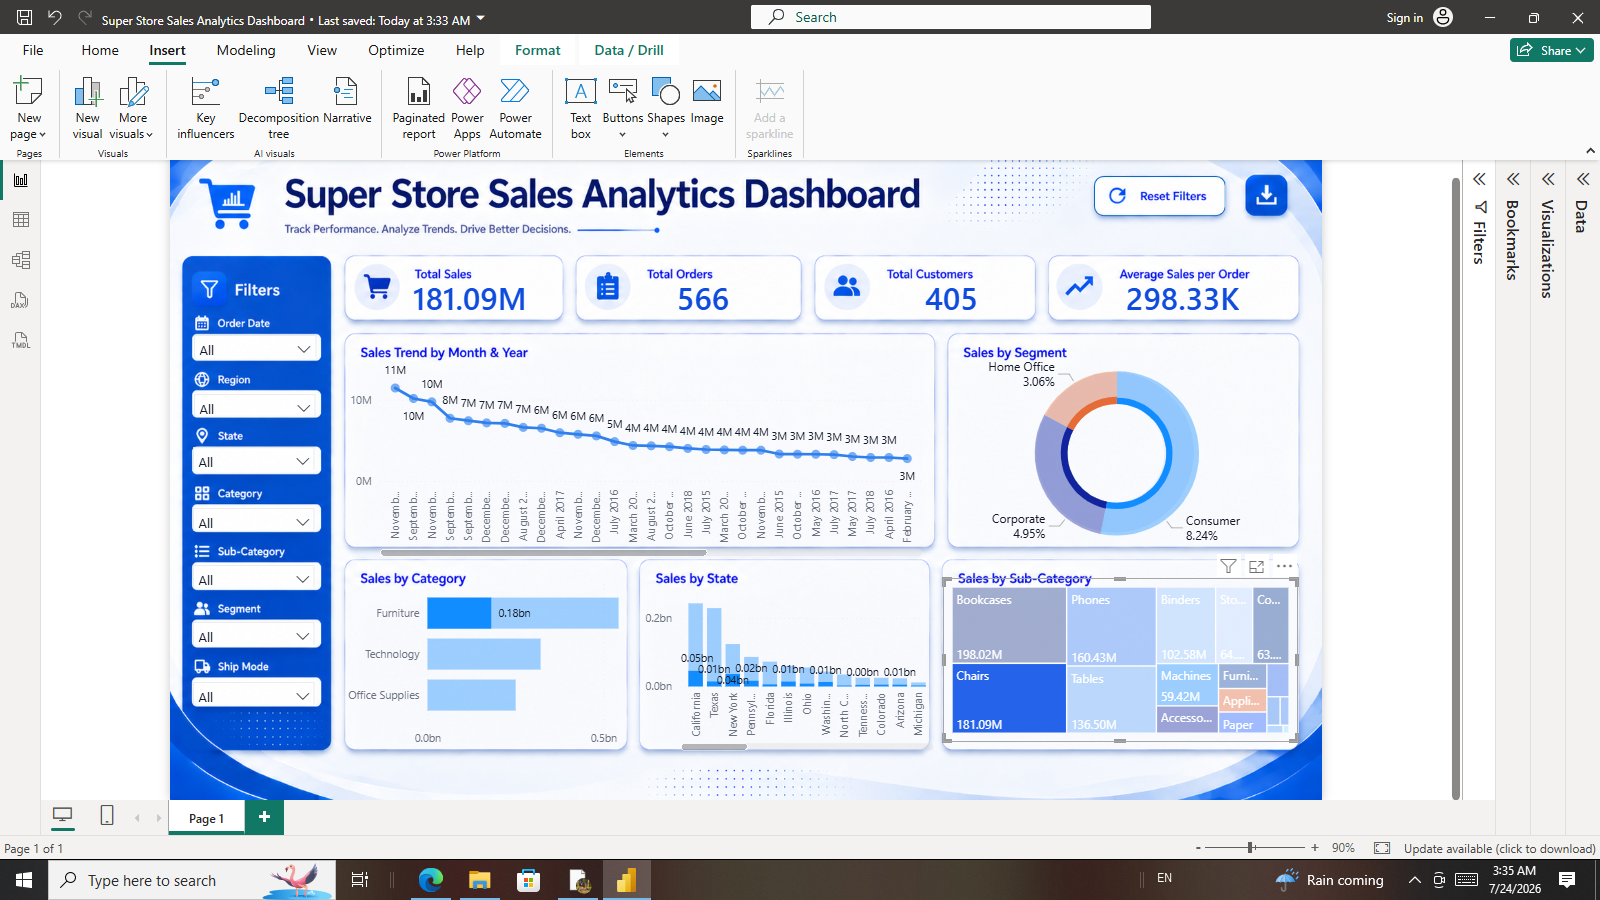

This screenshot's page, from the dashboard's own definition file:
{"tool":"powerbi","page":{"name":"Page 1","canvas":[1280,720],"ordinal":0},"visuals":[{"type":"cardVisual","fields":{"Data":["Superstore_Sales_Dataset.Total Sales"]},"box":[241.6,119.5,199.2,79.7],"z":0},{"type":"cardVisual","fields":{"Data":["Superstore_Sales_Dataset.Total Orders"]},"box":[534.6,119.5,164.5,79.7],"z":1000},{"type":"cardVisual","fields":{"Data":["Superstore_Sales_Dataset.Total Customers"]},"box":[809.6,119.5,164.5,79.7],"z":2000},{"type":"cardVisual","fields":{"Data":["Superstore_Sales_Dataset.Average Sales"]},"box":[1033.3,119.5,194.1,79.7],"z":3000},{"type":"lineChart","fields":{"Category":["Superstore_Sales_Dataset.Month & Year Order"],"Y":["Sum(Superstore_Sales_Dataset.Sales)"]},"box":[190.2,210.8,655.4,248],"z":4000},{"type":"donutChart","fields":{"Y":["Sum(Superstore_Sales_Dataset.Sales)"],"Category":["Superstore_Sales_Dataset.Segment"]},"box":[876.5,196.6,350.8,276.3],"z":5000},{"type":"clusteredBarChart","fields":{"Category":["Superstore_Sales_Dataset.Category"],"Y":["Sum(Superstore_Sales_Dataset.Sales)"]},"box":[181.2,458.8,383,215.9],"z":6000},{"type":"clusteredColumnChart","fields":{"Category":["Superstore_Sales_Dataset.State"],"Y":["Sum(Superstore_Sales_Dataset.Sales)"]},"box":[517.9,458.8,340.6,215.9],"z":7000},{"type":"treemap","fields":{"Group":["Superstore_Sales_Dataset.Sub-Category"],"Values":["Sum(Superstore_Sales_Dataset.Sales)"]},"box":[858.5,472.9,394.5,182.5],"z":8000},{"type":"slicer","fields":{"Values":["Superstore_Sales_Dataset.Order Date"]},"box":[16.1,192.8,155.6,35],"z":9000},{"type":"slicer","fields":{"Values":["Superstore_Sales_Dataset.Region"]},"box":[16.2,259.2,155.4,34.6],"z":10000},{"type":"slicer","fields":{"Values":["Superstore_Sales_Dataset.State"]},"box":[16,317.3,155.3,34.7],"z":11000},{"type":"slicer","fields":{"Values":["Superstore_Sales_Dataset.Category"]},"box":[16,385.3,155.3,34.7],"z":12000},{"type":"slicer","fields":{"Values":["Superstore_Sales_Dataset.Sub-Category"]},"box":[16,448.7,155.3,34.7],"z":13000},{"type":"slicer","fields":{"Values":["Superstore_Sales_Dataset.Segment"]},"box":[16,512,155.3,34.7],"z":14000},{"type":"slicer","fields":{"Values":["Superstore_Sales_Dataset.Ship Mode"]},"box":[16,578.7,155.3,34.7],"z":15000},{"type":"shape","box":[1026.9,26.2,146.2,44.6],"z":16000}]}

Visuals, with their boxes on the page's 1280x720 design canvas (x1, y1, x2, y2). These are canvas units, not pixel positions in the 1600x900 screenshot, which may show the page scaled, cropped or inside an application window:
cardVisual - Superstore_Sales_Dataset.Total Sales: [x1=242, y1=120, x2=441, y2=199]
cardVisual - Superstore_Sales_Dataset.Total Orders: [x1=535, y1=120, x2=699, y2=199]
cardVisual - Superstore_Sales_Dataset.Total Customers: [x1=810, y1=120, x2=974, y2=199]
cardVisual - Superstore_Sales_Dataset.Average Sales: [x1=1033, y1=120, x2=1227, y2=199]
lineChart - Superstore_Sales_Dataset.Month & Year Order x Sum(Superstore_Sales_Dataset.Sales): [x1=190, y1=211, x2=846, y2=459]
donutChart - Sum(Superstore_Sales_Dataset.Sales) x Superstore_Sales_Dataset.Segment: [x1=876, y1=197, x2=1227, y2=473]
clusteredBarChart - Superstore_Sales_Dataset.Category x Sum(Superstore_Sales_Dataset.Sales): [x1=181, y1=459, x2=564, y2=675]
clusteredColumnChart - Superstore_Sales_Dataset.State x Sum(Superstore_Sales_Dataset.Sales): [x1=518, y1=459, x2=858, y2=675]
treemap - Superstore_Sales_Dataset.Sub-Category x Sum(Superstore_Sales_Dataset.Sales): [x1=858, y1=473, x2=1253, y2=655]
slicer - Superstore_Sales_Dataset.Order Date: [x1=16, y1=193, x2=172, y2=228]
slicer - Superstore_Sales_Dataset.Region: [x1=16, y1=259, x2=172, y2=294]
slicer - Superstore_Sales_Dataset.State: [x1=16, y1=317, x2=171, y2=352]
slicer - Superstore_Sales_Dataset.Category: [x1=16, y1=385, x2=171, y2=420]
slicer - Superstore_Sales_Dataset.Sub-Category: [x1=16, y1=449, x2=171, y2=483]
slicer - Superstore_Sales_Dataset.Segment: [x1=16, y1=512, x2=171, y2=547]
slicer - Superstore_Sales_Dataset.Ship Mode: [x1=16, y1=579, x2=171, y2=613]
shape: [x1=1027, y1=26, x2=1173, y2=71]
